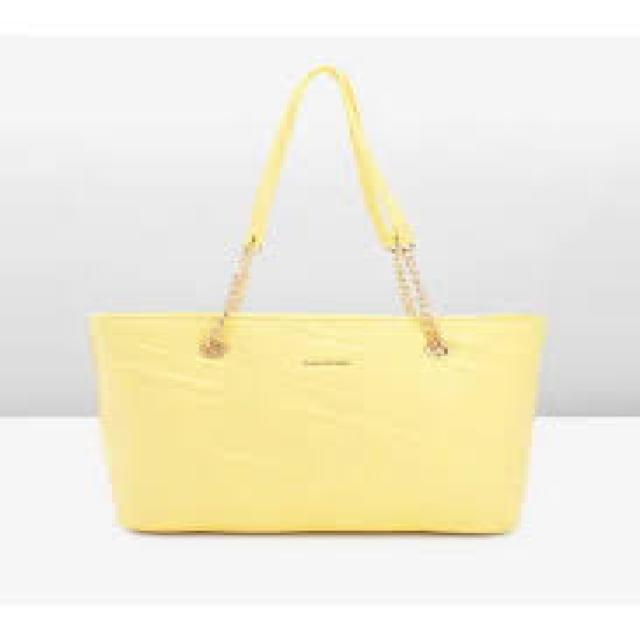handbag: (84, 63, 546, 535)
